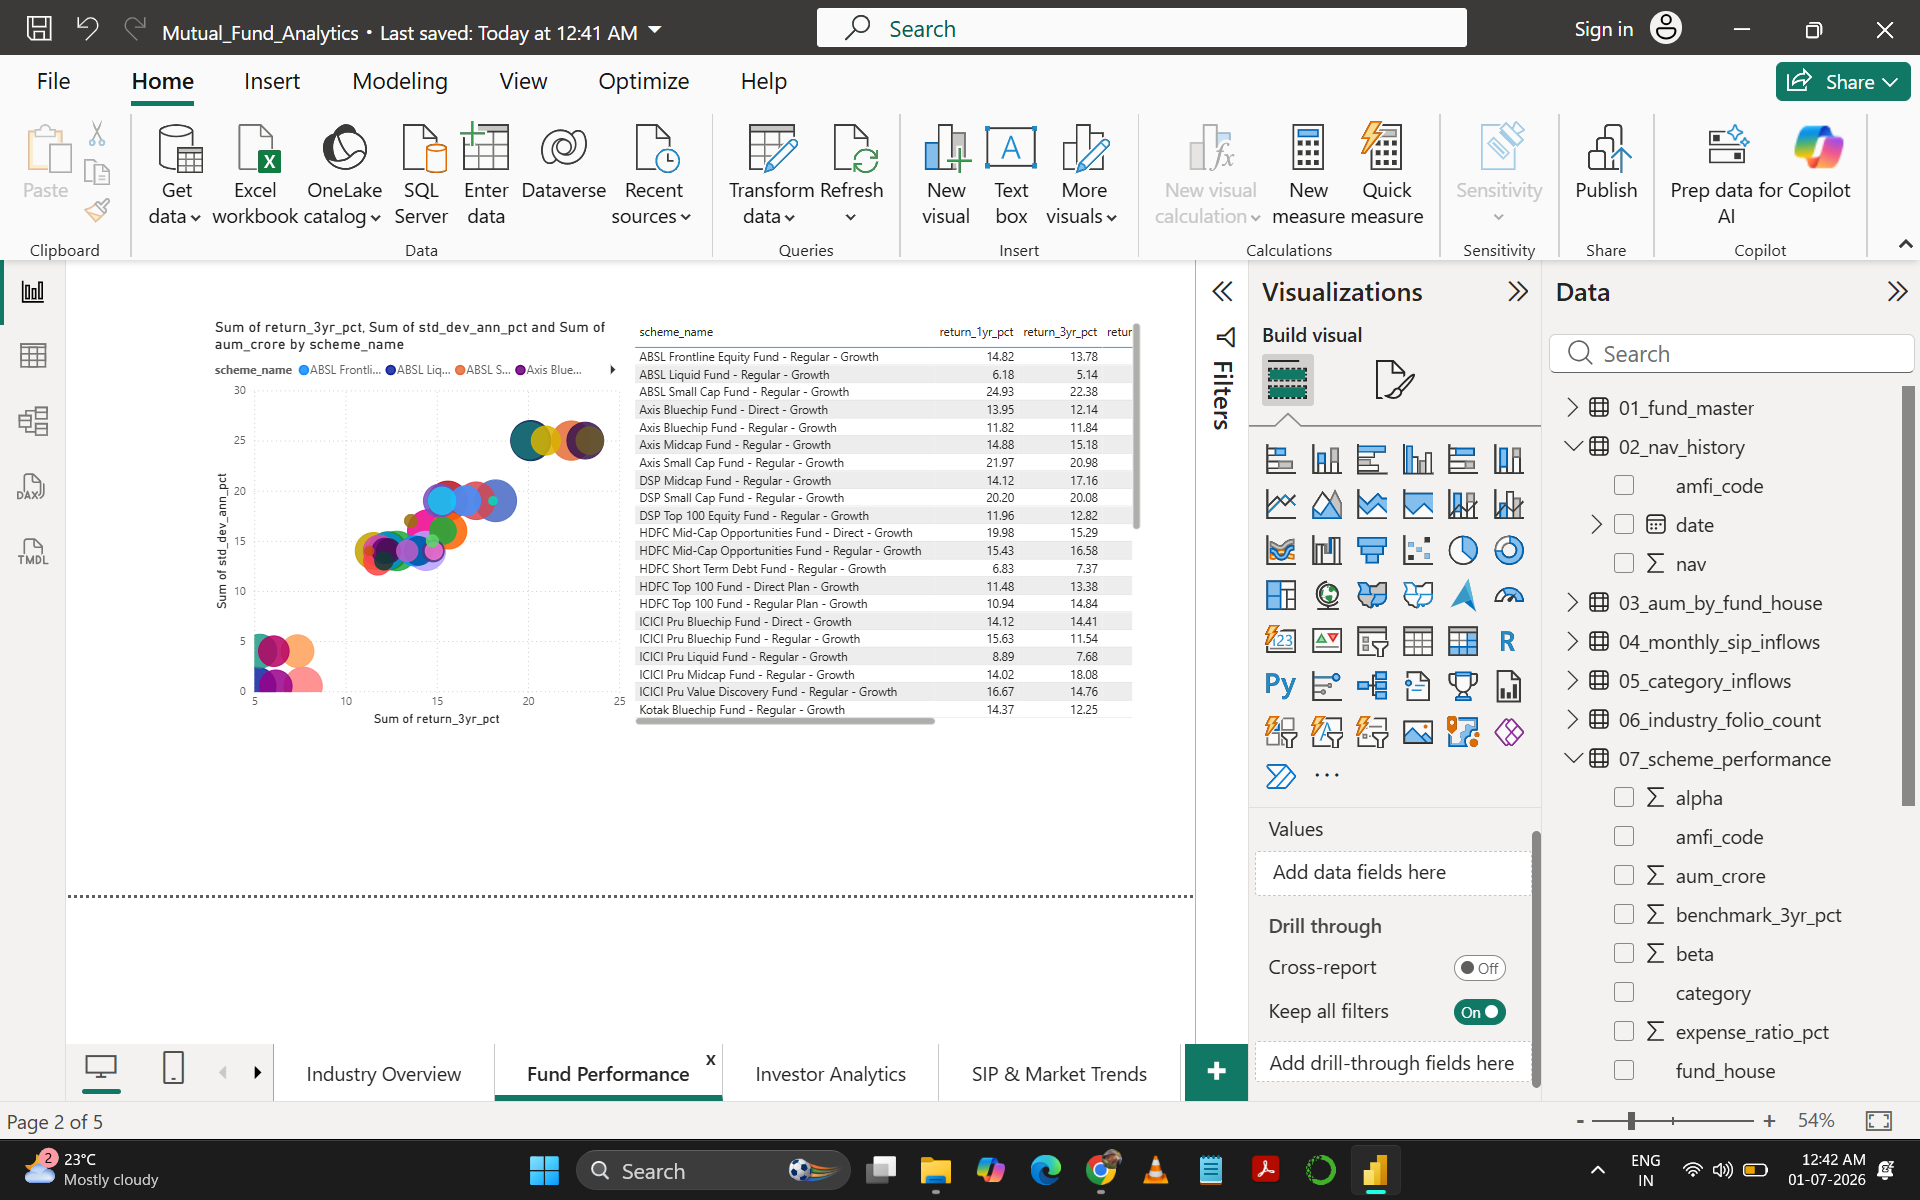

Layout of this report page (visuals, bound fields, positions):
{"tool":"powerbi","page":{"name":"Fund Performance","canvas":[1280,720],"ordinal":1},"visuals":[{"type":"scatterChart","fields":{"X":["Sum(07_scheme_performance.return_3yr_pct)"],"Y":["Sum(07_scheme_performance.std_dev_ann_pct)"],"Size":["Sum(07_scheme_performance.aum_crore)"],"Series":["07_scheme_performance.scheme_name"]},"box":[164,66.3,475.4,466.2],"z":0},{"type":"tableEx","fields":{"Values":["07_scheme_performance.scheme_name","07_scheme_performance.return_1yr_pct","07_scheme_performance.return_3yr_pct","07_scheme_performance.return_5yr_pct","07_scheme_performance.sharpe_ratio","07_scheme_performance.expense_ratio_pct","07_scheme_performance.risk_grade"]},"box":[639.4,66.3,584.1,466.2],"z":1000}]}

Visuals, with their boxes on the page's 1280x720 design canvas (x1, y1, x2, y2). These are canvas units, not pixel positions in the 1920x1200 screenshot, which may show the page scaled, cropped or inside an application window:
scatterChart - Sum(07_scheme_performance.return_3yr_pct) x Sum(07_scheme_performance.std_dev_ann_pct): (164,66,639,532)
tableEx - 07_scheme_performance.scheme_name x 07_scheme_performance.return_1yr_pct: (639,66,1224,532)
